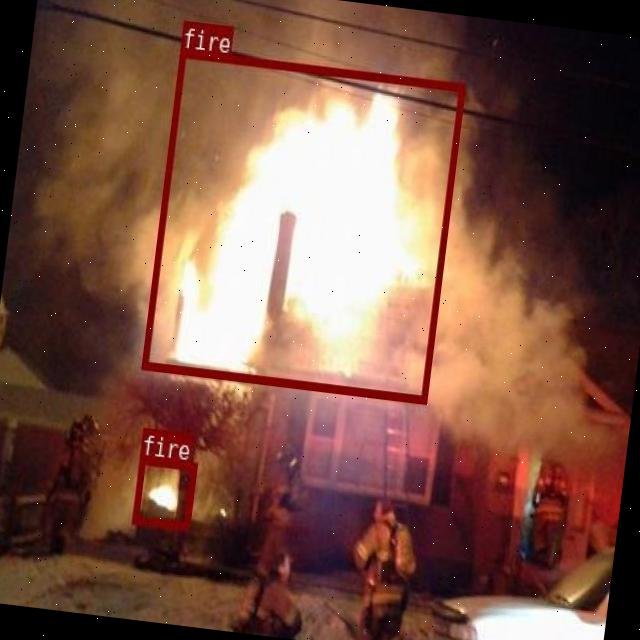fire: (140, 48, 464, 402), (130, 454, 196, 530)
